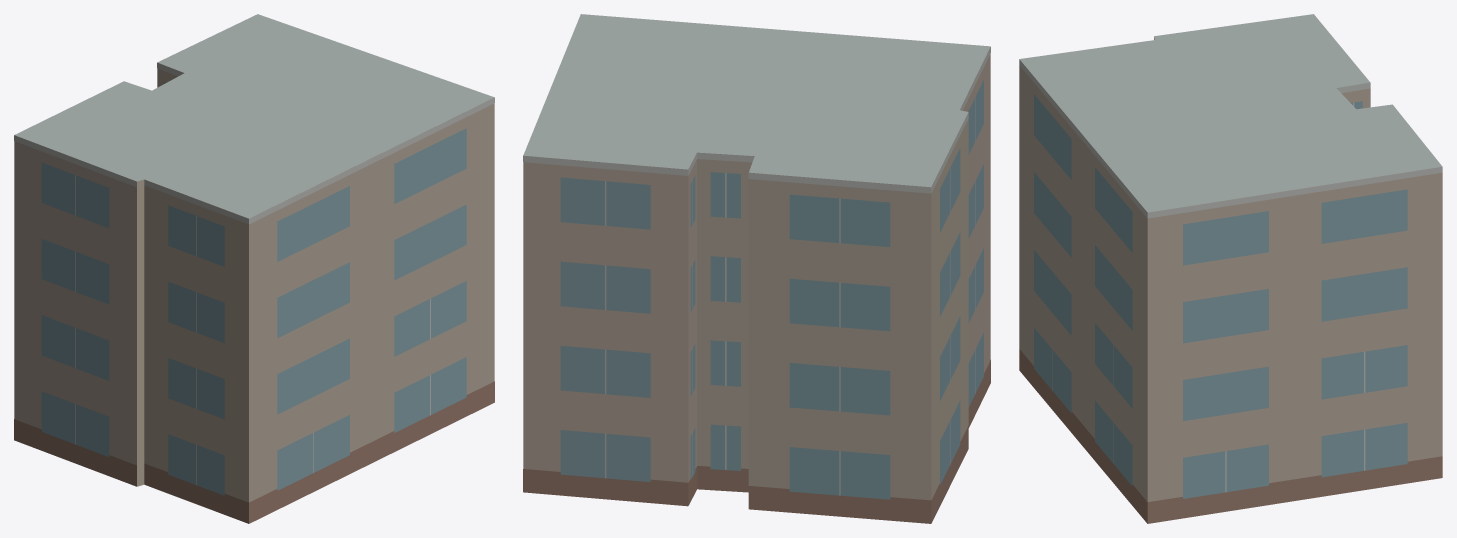
The model's file is survey-upis-32772939.glb.
3 views of the same model, side by side, from view 1: azimuth 30°, elevation 25°; view 2: azimuth 150°, elevation 25°; view 3: azimuth 270°, elevation 25° (orthographic). The views are drawn at different scales.
Parts seen in each view (by area): view 1: survey-upis-32772939.tmp; view 2: survey-upis-32772939.tmp; view 3: survey-upis-32772939.tmp.
Part boxes in pixels (bbox=[...]): survey-upis-32772939.tmp: bbox=[14, 14, 494, 523]; survey-upis-32772939.tmp: bbox=[523, 14, 990, 523]; survey-upis-32772939.tmp: bbox=[1019, 14, 1442, 523].
Size of the model in its own units: 17.59 by 12.84 by 15.84.
